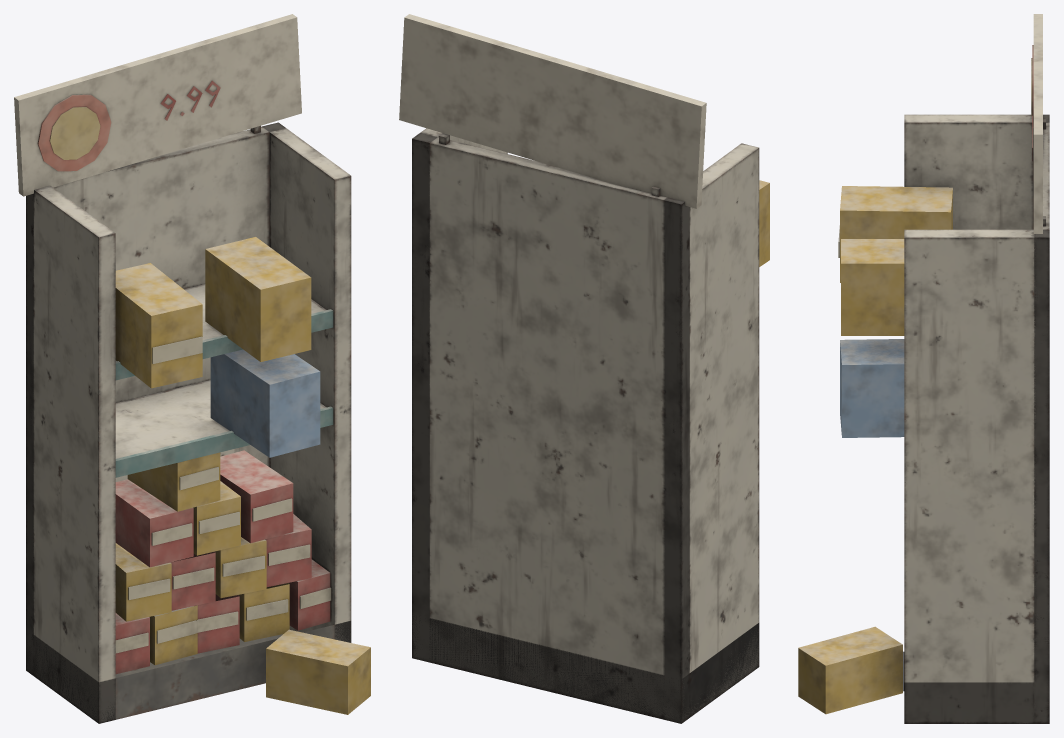
Rendered from gondola_end.fbx.
3 views of the same model, side by side, from view 1: azimuth 30°, elevation 25°; view 2: azimuth 150°, elevation 25°; view 3: azimuth 270°, elevation 25° (orthographic). The views are drawn at different scales.
Visible parts, largest first — view 1: Body; view 2: Body; view 3: Body.
Part boxes in pixels (left/top/right/bottom): Body: left=14, top=14, right=370, bottom=723; Body: left=399, top=14, right=769, bottom=723; Body: left=798, top=14, right=1049, bottom=723.
Size of the model in its own units: 4.27 by 8.56 by 3.28.
Materials: 1 (1 with a texture image).
